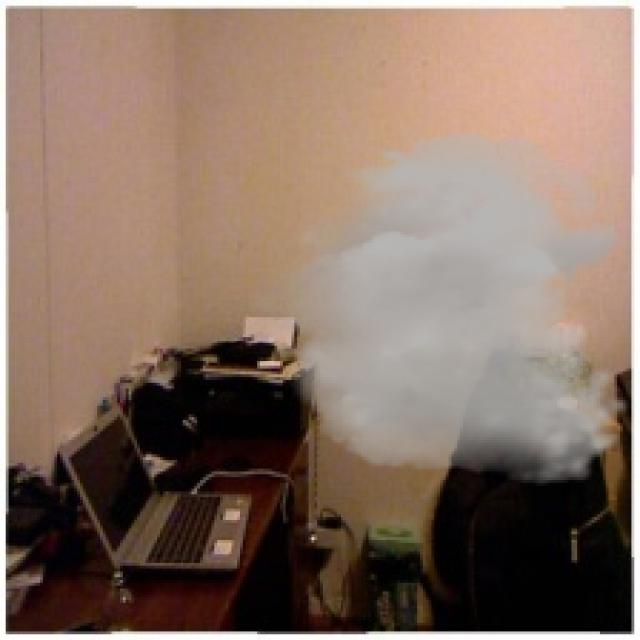smoke: (240, 134, 631, 486)
